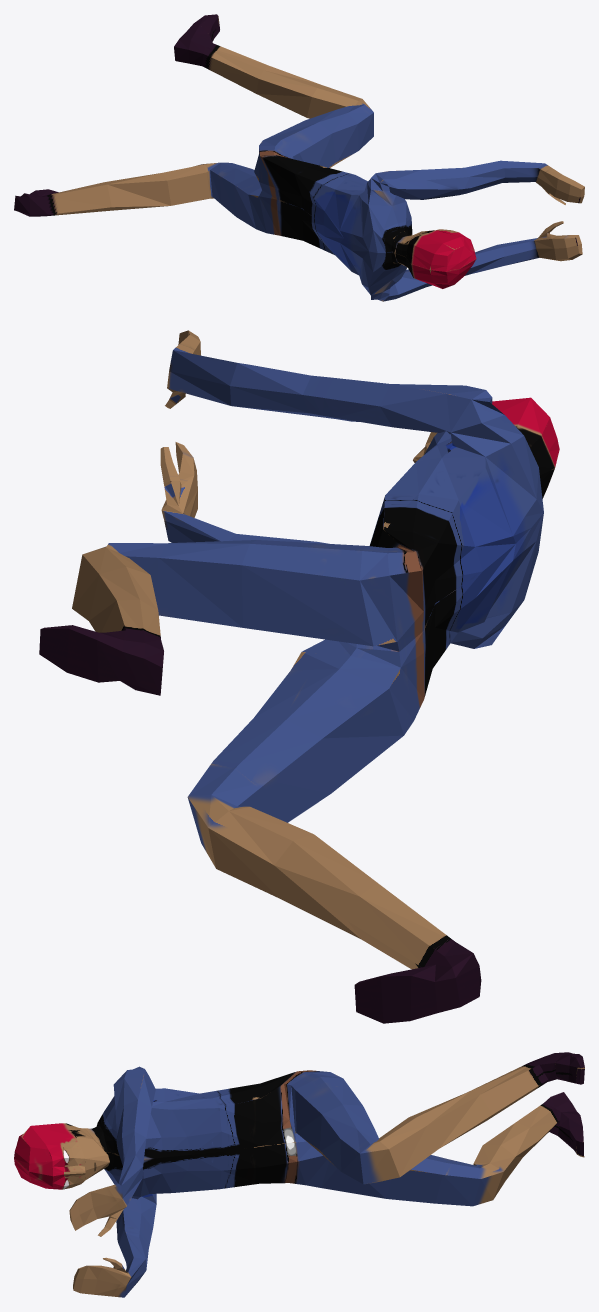
File: mirrorman_000017.obj
3 renders of one model, top to bottom at view 1: azimuth 30°, elevation 25°; view 2: azimuth 150°, elevation 25°; view 3: azimuth 270°, elevation 25°, orthographic. The views are drawn at different scales.
Parts seen in each view (by area): view 1: mirrorman_Cube.001_Material.001; view 2: mirrorman_Cube.001_Material.001; view 3: mirrorman_Cube.001_Material.001.
Boxes of the visible parts, <box> form: mirrorman_Cube.001_Material.001: <box>14,14,584,301</box>; mirrorman_Cube.001_Material.001: <box>39,330,559,1023</box>; mirrorman_Cube.001_Material.001: <box>14,1052,584,1297</box>.
Size of the model in its own units: 1.29 by 0.544 by 1.51.
